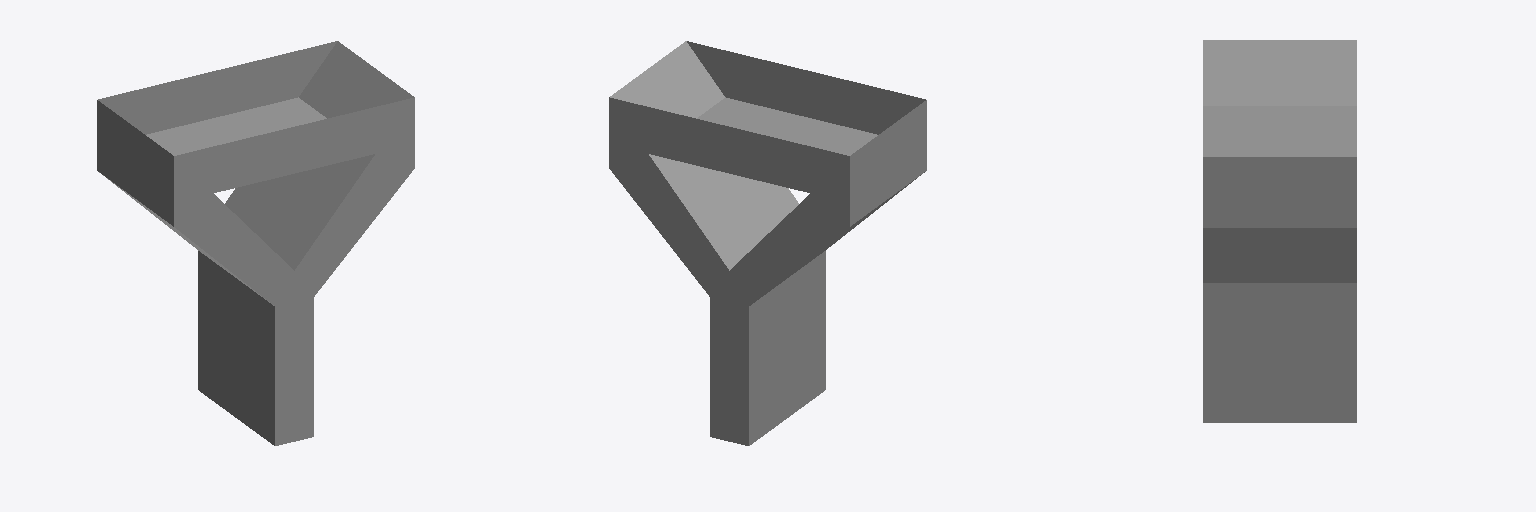
File: ybridgepillar.obj
3 views of the same model, side by side, from view 1: azimuth 30°, elevation 25°; view 2: azimuth 150°, elevation 25°; view 3: azimuth 270°, elevation 25° (orthographic).
Visible parts, largest first — view 1: Cube_Cube.002; view 2: Cube_Cube.002; view 3: Cube_Cube.002.
Boxes of the visible parts, <box> form: Cube_Cube.002: <box>97,41,414,445</box>; Cube_Cube.002: <box>609,41,926,445</box>; Cube_Cube.002: <box>1203,40,1356,422</box>.
Bounding box in the file's own units: 1.63 × 2.04 × 0.9052.